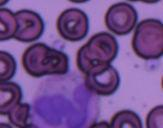N: (29, 75, 101, 128)
